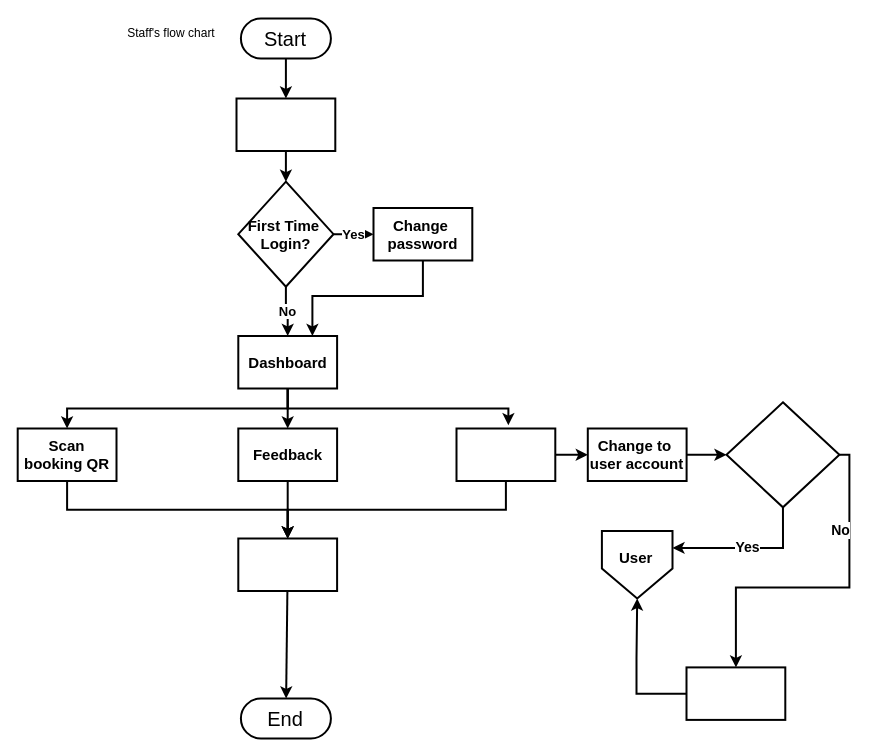
This 876x756 diagram has some shape labels left out. The centre of each missing label's shape, as x and y in pixels:
"Already connect user account?" belongs at point 782,454.
"Connect user account" belongs at point 735,693.
"Edit Profile" belongs at point 505,454.
"Login" belongs at point 285,124.
"Logout" belongs at point 287,564.
